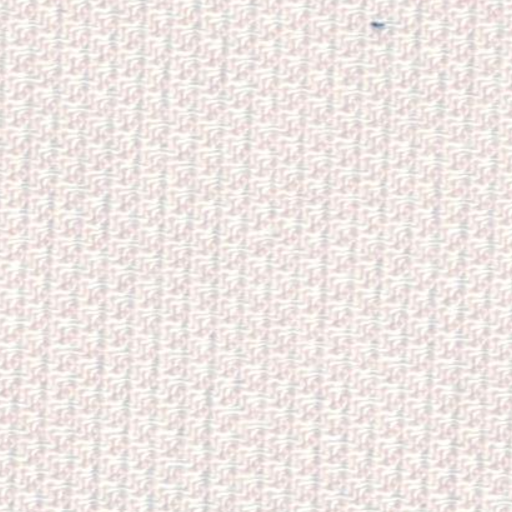WuZi: (357, 10, 393, 40)
